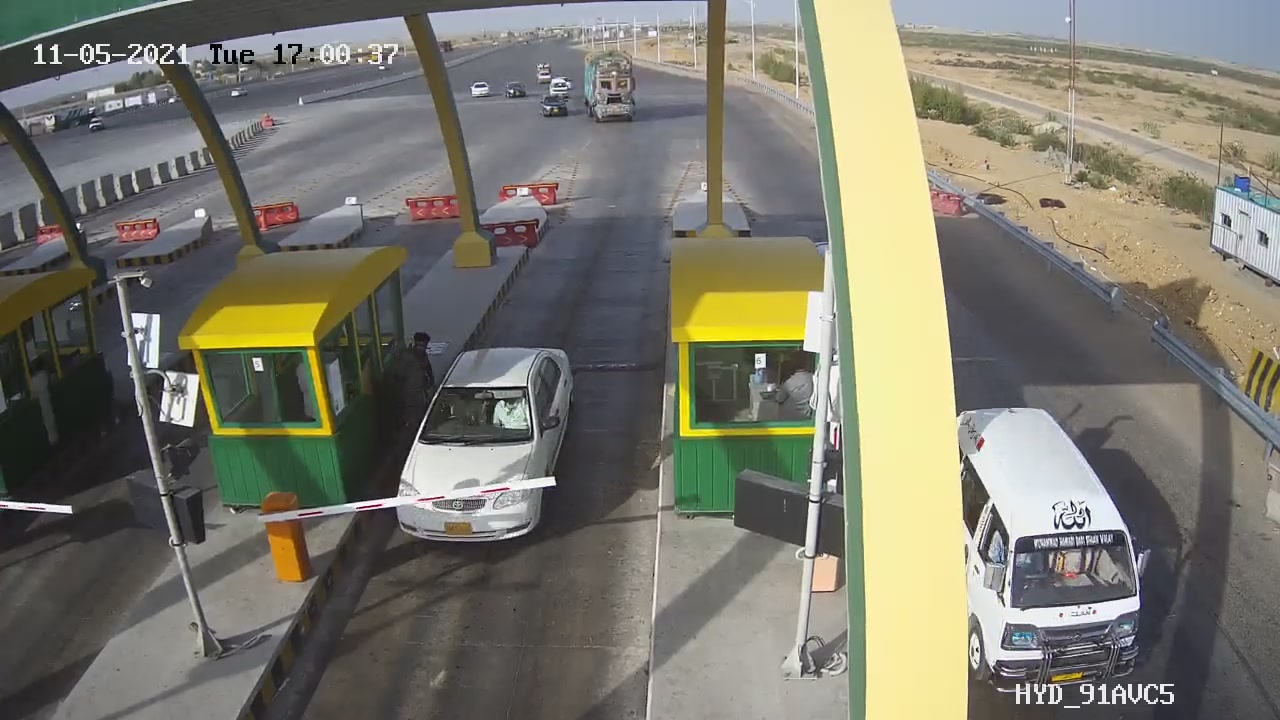F1: (382, 330, 590, 561)
